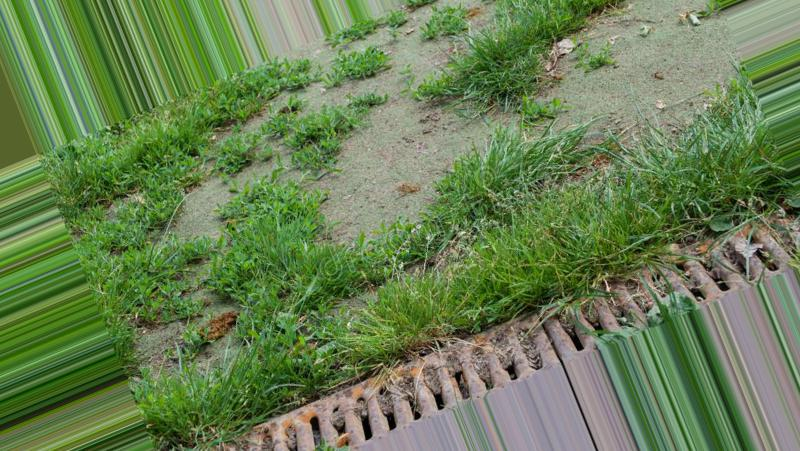patch: (610, 49, 721, 122), (353, 152, 415, 227), (384, 104, 469, 139), (183, 192, 206, 230), (395, 36, 424, 55)
